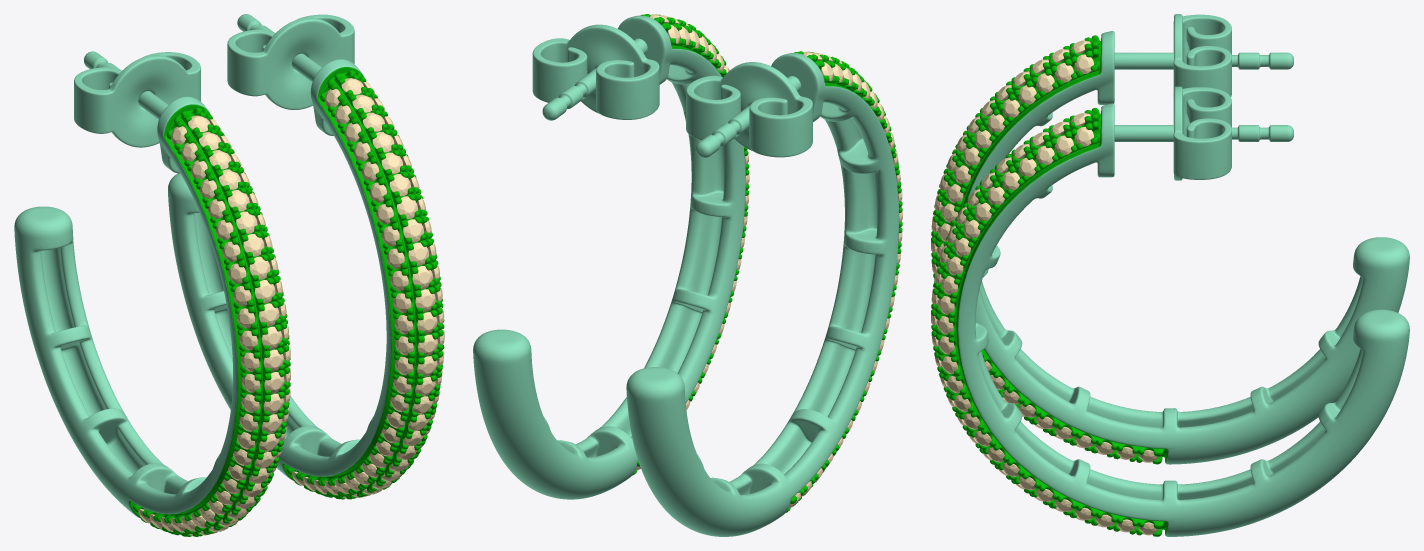
Rendered from TES-ER-R-43133-RR.glb.
The picture shows the model from 3 angles, left to right: view 1: azimuth 30°, elevation 25°; view 2: azimuth 150°, elevation 25°; view 3: azimuth 270°, elevation 25°; orthographic projection. The views are drawn at different scales.
Parts seen in each view (by area): view 1: Metal2, Metal1; view 2: Metal2, Metal1; view 3: Metal2, Metal1.
Boxes of the visible parts, box(x1,y1,x2,y2) form: Metal2: box(14, 14, 390, 518); Metal1: box(129, 67, 444, 536); Metal2: box(473, 15, 899, 536); Metal1: box(632, 14, 902, 512); Metal2: box(958, 14, 1409, 536); Metal1: box(931, 35, 1168, 536).
Bounding box in the file's own units: 17.6 × 28.53 × 27.92.
